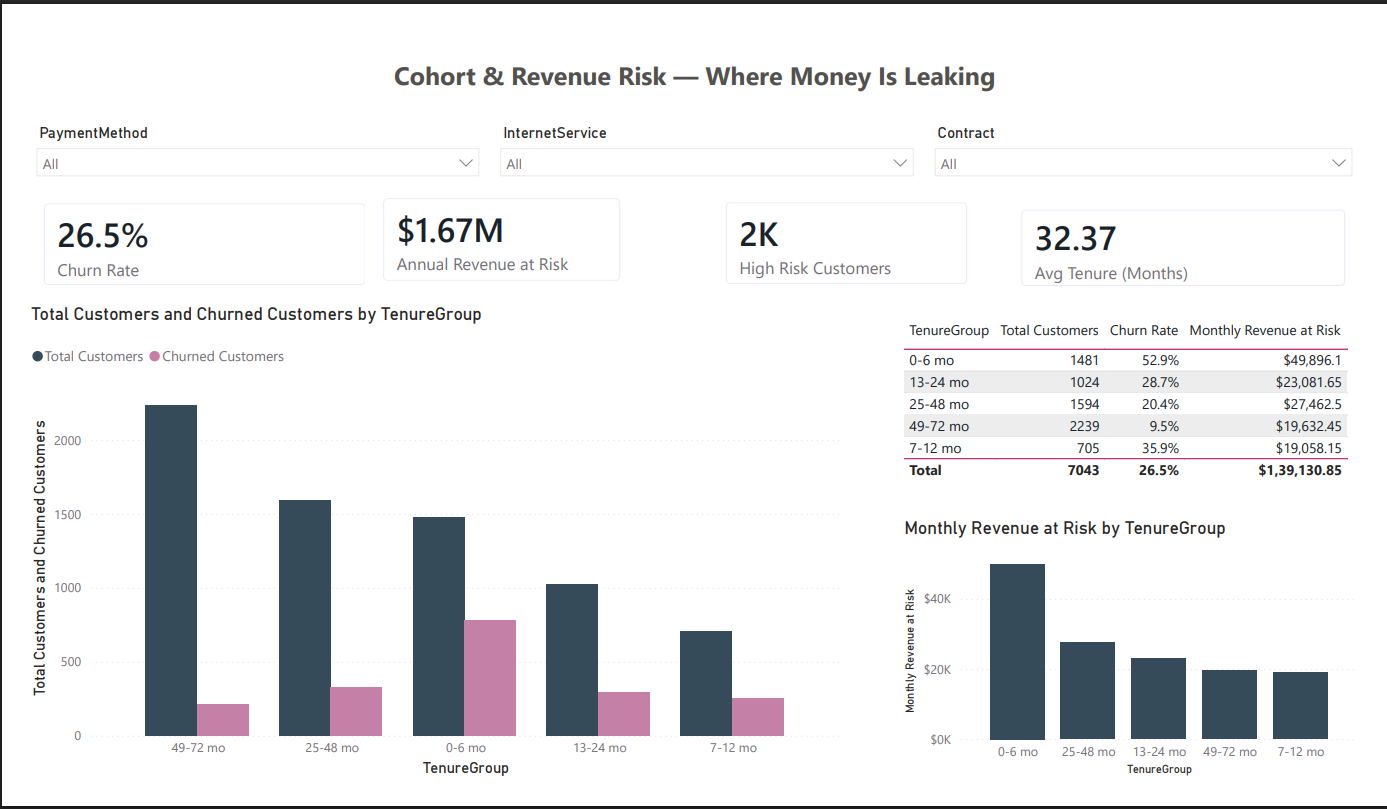

This screenshot's page, from the dashboard's own definition file:
{"tool":"powerbi","page":{"name":"Cohort & Revenue Risk","canvas":[1280,720],"ordinal":2},"visuals":[{"type":"textbox","box":[255,22.5,771.2,47.5],"z":0},{"type":"slicer","fields":{"Values":["Customers.PaymentMethod"]},"box":[0,86.2,443.8,62.5],"z":1000},{"type":"slicer","fields":{"Values":["Customers.Contract"]},"box":[860,86.2,420,62.5],"z":2000},{"type":"slicer","fields":{"Values":["Customers.InternetService"]},"box":[443.8,86.2,416.2,62.5],"z":3000},{"type":"clusteredColumnChart","fields":{"Category":["Customers.TenureGroup"],"Y":["Customers.Total Customers","Customers.Churned Customers"]},"box":[0,262.5,785,457.5],"z":4000},{"type":"clusteredColumnChart","fields":{"Category":["Customers.TenureGroup"],"Y":["Customers.Monthly Revenue at Risk"]},"box":[836.2,467.5,443.8,252.5],"z":5000},{"type":"cardVisual","fields":{"Data":["Customers.Avg Tenure (Months)"]},"box":[936.2,156.2,343.8,106.2],"z":6000},{"type":"cardVisual","fields":{"Data":["Customers.Churn Rate"]},"box":[0,149.6,341.7,112.5],"z":7000},{"type":"cardVisual","fields":{"Data":["Customers.Annual Revenue at Risk"]},"box":[325,145,261.2,112.5],"z":8000},{"type":"cardVisual","fields":{"Data":["Customers.High Risk Customers"]},"box":[652.5,148.8,265,112.5],"z":9000},{"type":"tableEx","fields":{"Values":["Customers.TenureGroup","Customers.Total Customers","Customers.Churn Rate","Customers.Monthly Revenue at Risk"]},"box":[835,272.5,445,176.2],"z":10000}]}

Visuals, with their boxes on the page's 1280x720 design canvas (x1, y1, x2, y2). These are canvas units, not pixel positions in the 1387x809 screenshot, which may show the page scaled, cropped or inside an application window:
textbox: Rect(255, 22, 1026, 70)
slicer - Customers.PaymentMethod: Rect(0, 86, 444, 149)
slicer - Customers.Contract: Rect(860, 86, 1280, 149)
slicer - Customers.InternetService: Rect(444, 86, 860, 149)
clusteredColumnChart - Customers.TenureGroup x Customers.Total Customers: Rect(0, 262, 785, 720)
clusteredColumnChart - Customers.TenureGroup x Customers.Monthly Revenue at Risk: Rect(836, 468, 1280, 720)
cardVisual - Customers.Avg Tenure (Months): Rect(936, 156, 1280, 262)
cardVisual - Customers.Churn Rate: Rect(0, 150, 342, 262)
cardVisual - Customers.Annual Revenue at Risk: Rect(325, 145, 586, 258)
cardVisual - Customers.High Risk Customers: Rect(652, 149, 918, 261)
tableEx - Customers.TenureGroup x Customers.Total Customers: Rect(835, 272, 1280, 449)
